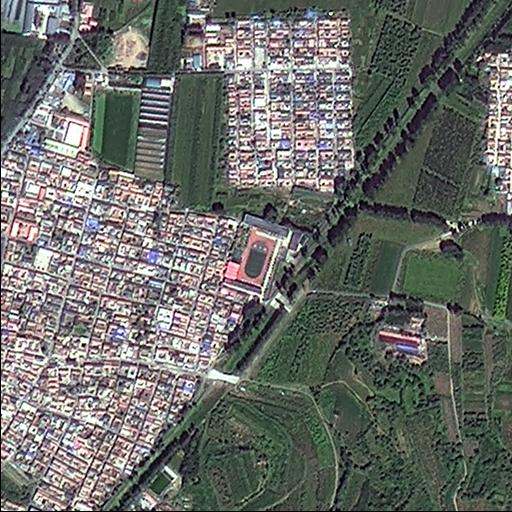school: (219, 211, 291, 292)
